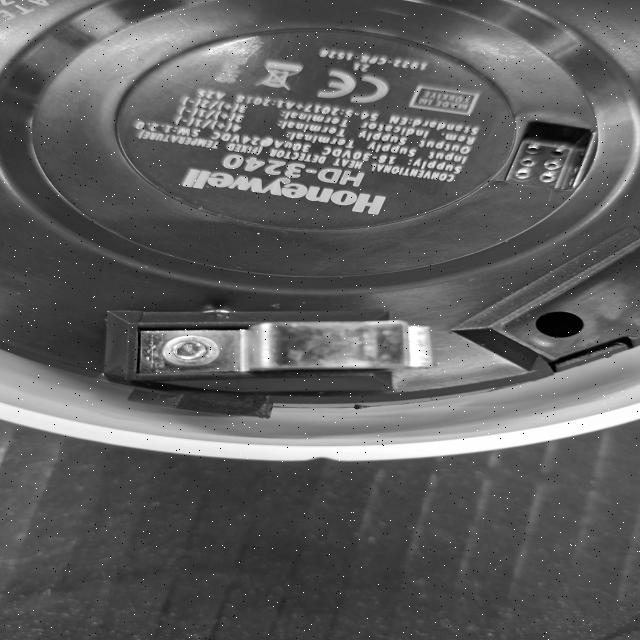yayli: (99, 304, 468, 384)
